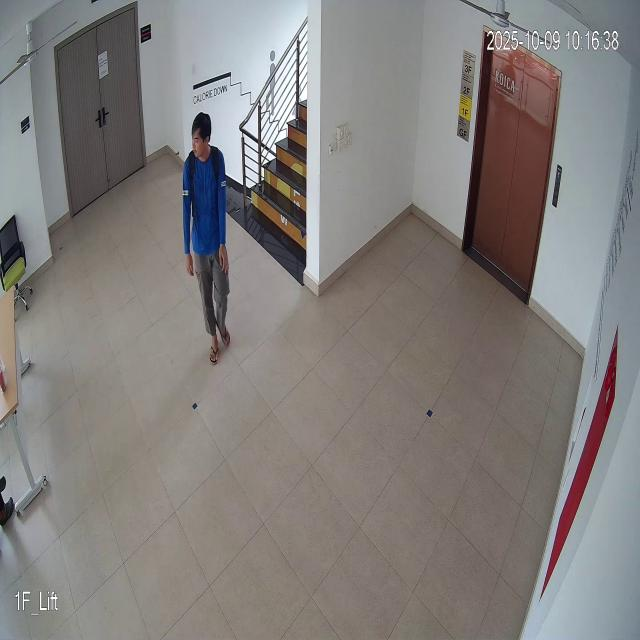face: (190, 110, 216, 166)
